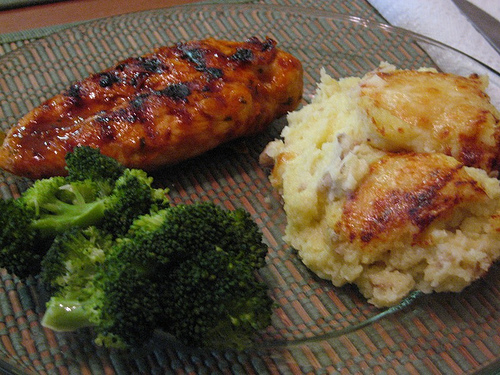broccoli: (1, 140, 281, 359)
